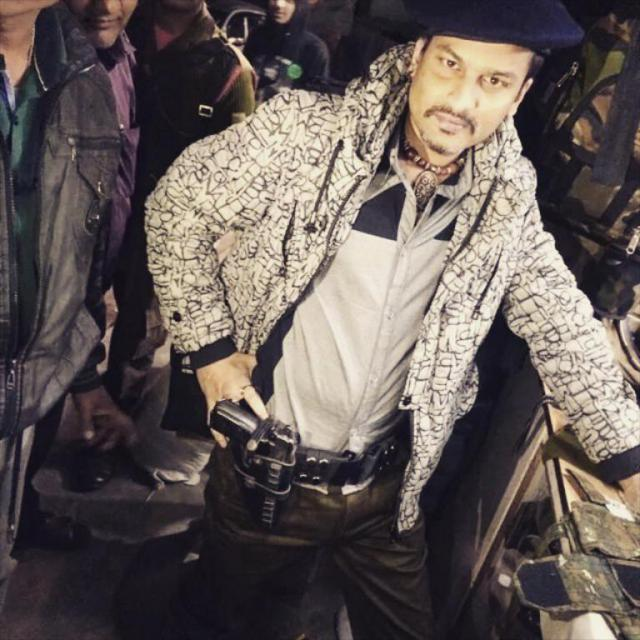closed-mouth: (430, 104, 468, 131), (84, 12, 123, 34)
